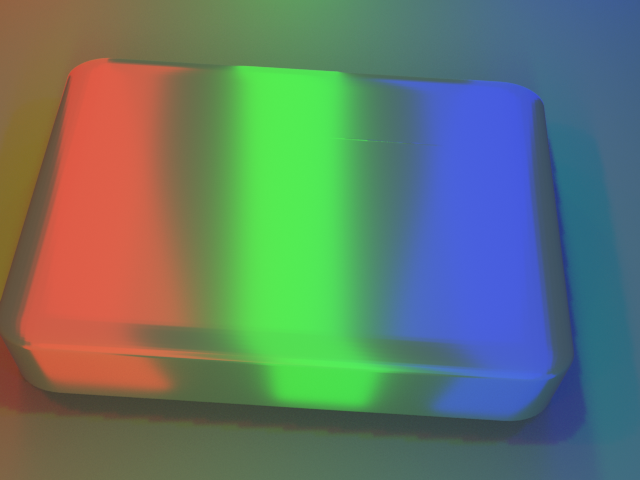scratch: (234, 54, 567, 225)
